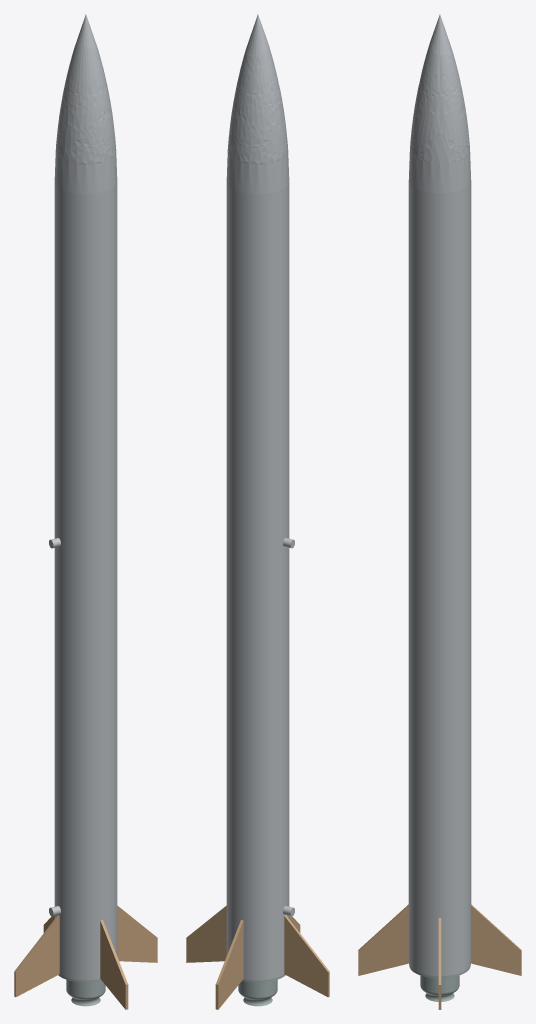
File: assembly.glb
3 views of the same model, side by side, from view 1: azimuth 30°, elevation 25°; view 2: azimuth 150°, elevation 25°; view 3: azimuth 270°, elevation 25° (orthographic).
Visible parts, largest first — view 1: BodyTube_Lower, BodyTube_Upper, NoseCone, Fin_3, Fin_1, Fin_2, SCREWCAPFORMOTORSE0001; view 2: BodyTube_Lower, BodyTube_Upper, NoseCone, Fin_3, Fin_1, Fin_4, SCREWCAPFORMOTORSE0001; view 3: BodyTube_Lower, BodyTube_Upper, NoseCone, Fin_2, Fin_4, SCREWCAPFORMOTORSE0001.
Boxes of the visible parts, x1,y1,x2,y2 form: BodyTube_Lower: [54, 557, 117, 980]; BodyTube_Upper: [54, 182, 117, 569]; NoseCone: [54, 14, 117, 194]; Fin_3: [14, 915, 59, 997]; Fin_1: [117, 905, 157, 962]; Fin_2: [100, 920, 128, 1009]; SCREWCAPFORMOTORSE0001: [66, 979, 105, 1006]; BodyTube_Lower: [226, 557, 289, 980]; BodyTube_Upper: [226, 182, 289, 569]; NoseCone: [226, 14, 289, 194]; Fin_3: [284, 915, 329, 997]; Fin_1: [186, 905, 226, 962]; Fin_4: [215, 920, 243, 1009]; SCREWCAPFORMOTORSE0001: [238, 979, 277, 1006]; BodyTube_Lower: [408, 554, 471, 976]; BodyTube_Upper: [408, 181, 471, 566]; NoseCone: [408, 14, 471, 193]; Fin_2: [358, 904, 408, 975]; Fin_4: [471, 904, 521, 975]; SCREWCAPFORMOTORSE0001: [420, 975, 459, 1001].
Size of the model in its own units: 0.178 by 1.18 by 0.178.
